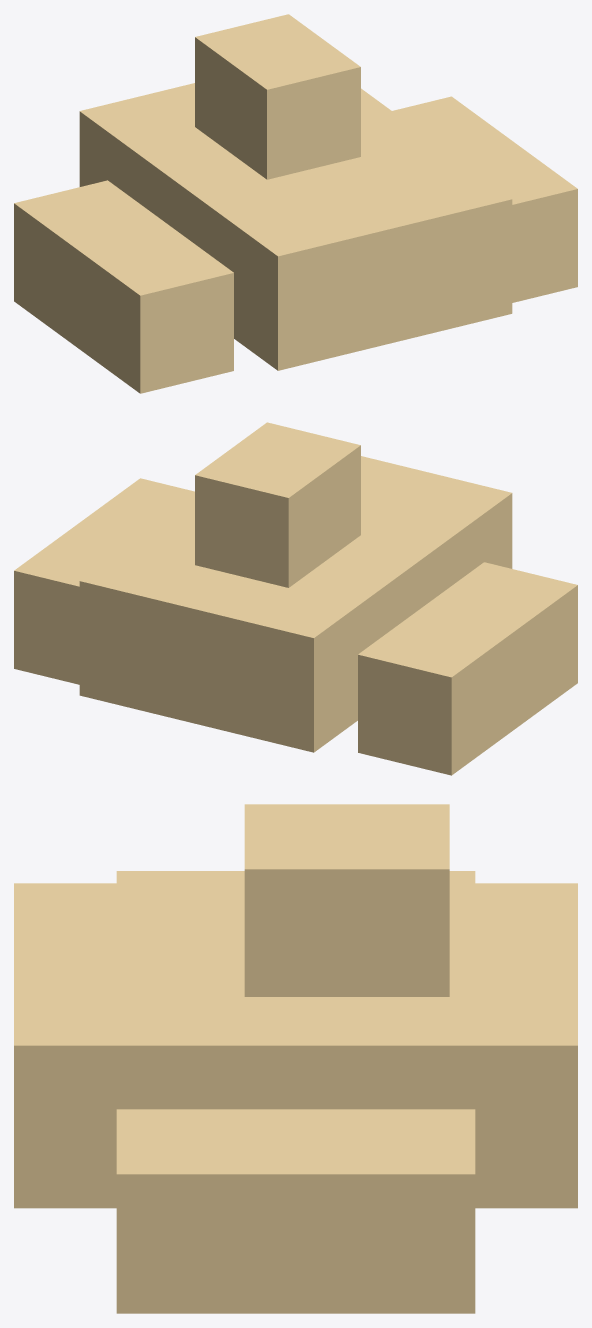
File: scout.gltf
The picture shows the model from 3 angles, top to bottom: view 1: azimuth 30°, elevation 25°; view 2: azimuth 150°, elevation 25°; view 3: azimuth 270°, elevation 25°; orthographic projection. The views are drawn at different scales.
Visible parts, largest first — view 1: scout; view 2: scout; view 3: scout.
Boxes of the visible parts, x1,y1,x2,y2 form: scout: [14, 14, 577, 393]; scout: [14, 422, 577, 775]; scout: [14, 804, 577, 1313].
Bounding box in the file's own units: 1.4 × 0.7 × 1.1.
